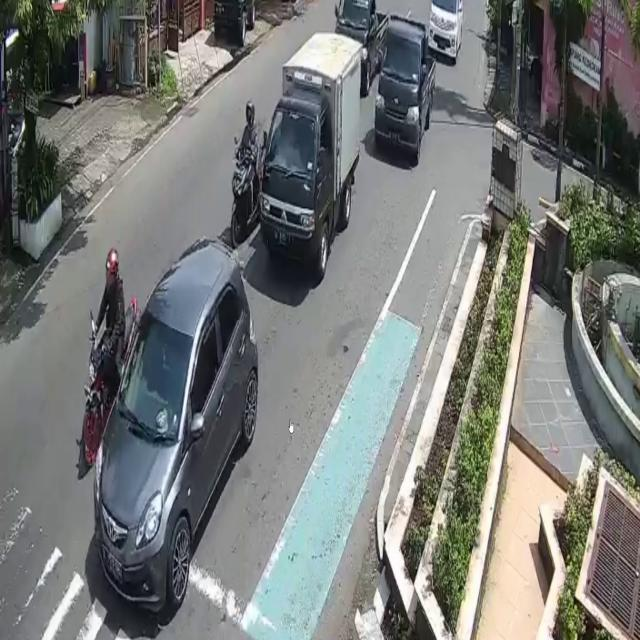car: (95, 236, 259, 609), (374, 13, 434, 160), (333, 0, 387, 92), (427, 0, 463, 65)
motorbike: (230, 146, 259, 247)
truck: (260, 30, 361, 278)
